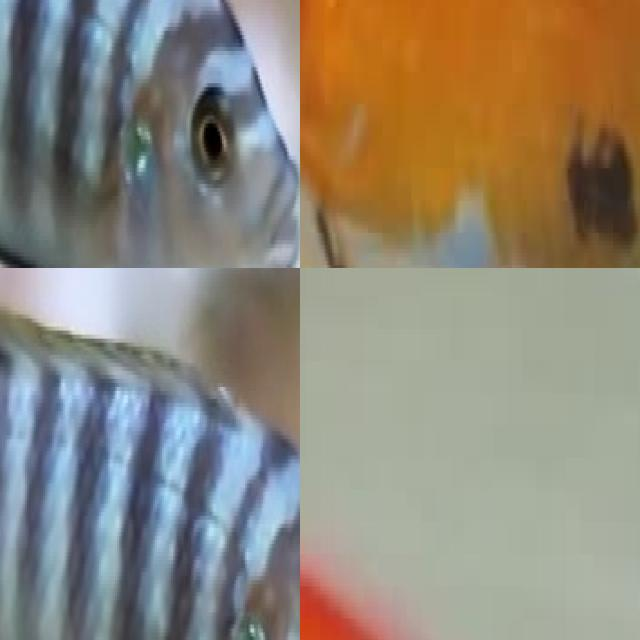fish: (0, 268, 300, 640), (0, 0, 300, 268), (300, 490, 640, 640)
